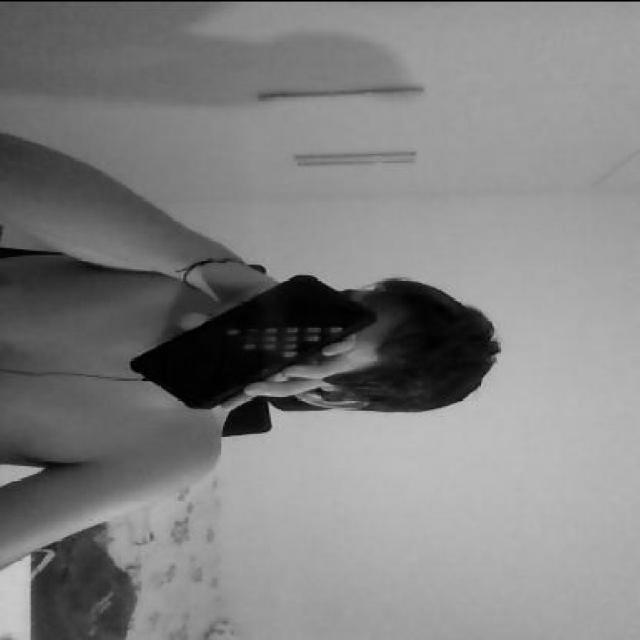fake: (124, 271, 376, 411)
